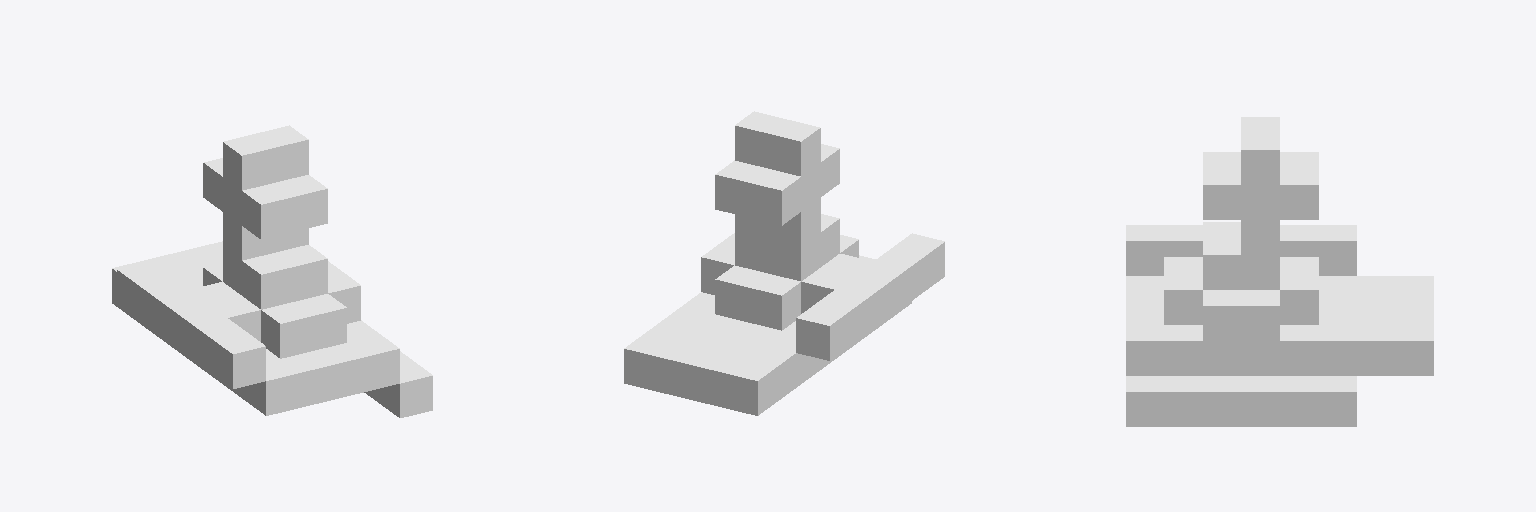
The model's file is Extra-7-UVintruder_LandingPod_.obj.
The picture shows the model from 3 angles: view 1: azimuth 30°, elevation 25°; view 2: azimuth 150°, elevation 25°; view 3: azimuth 270°, elevation 25°; orthographic projection.
Parts seen in each view (by area): view 1: UVintruder_LandingPod_; view 2: UVintruder_LandingPod_; view 3: UVintruder_LandingPod_.
Part boxes in pixels (x1,y1,x2,y2): UVintruder_LandingPod_: (112,125,432,417); UVintruder_LandingPod_: (624,111,944,415); UVintruder_LandingPod_: (1126,117,1433,426).
Bounding box in the file's own units: 0.6 × 0.7 × 0.8.